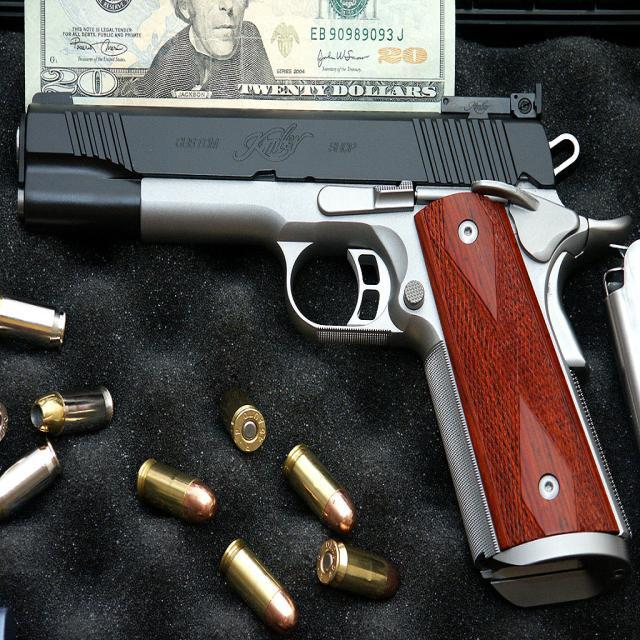Gun: (14, 79, 638, 612)
